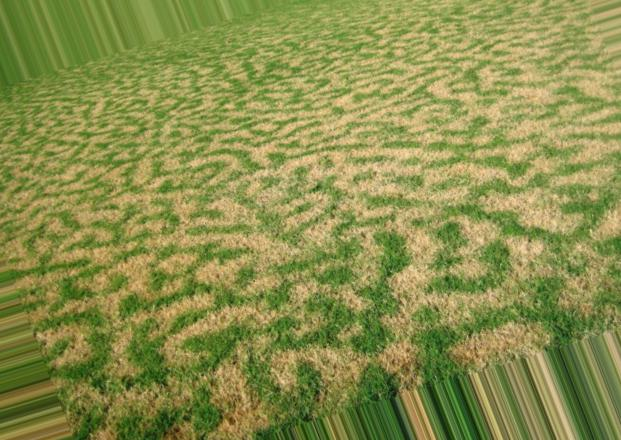patch: (154, 178, 396, 297), (425, 165, 605, 304), (288, 70, 512, 145), (39, 98, 262, 170), (58, 180, 138, 343), (164, 301, 366, 365), (100, 378, 234, 435), (524, 29, 591, 110)
